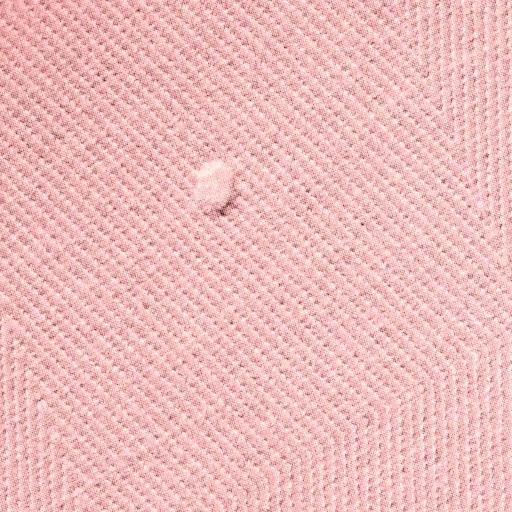knot: (186, 156, 243, 222)
